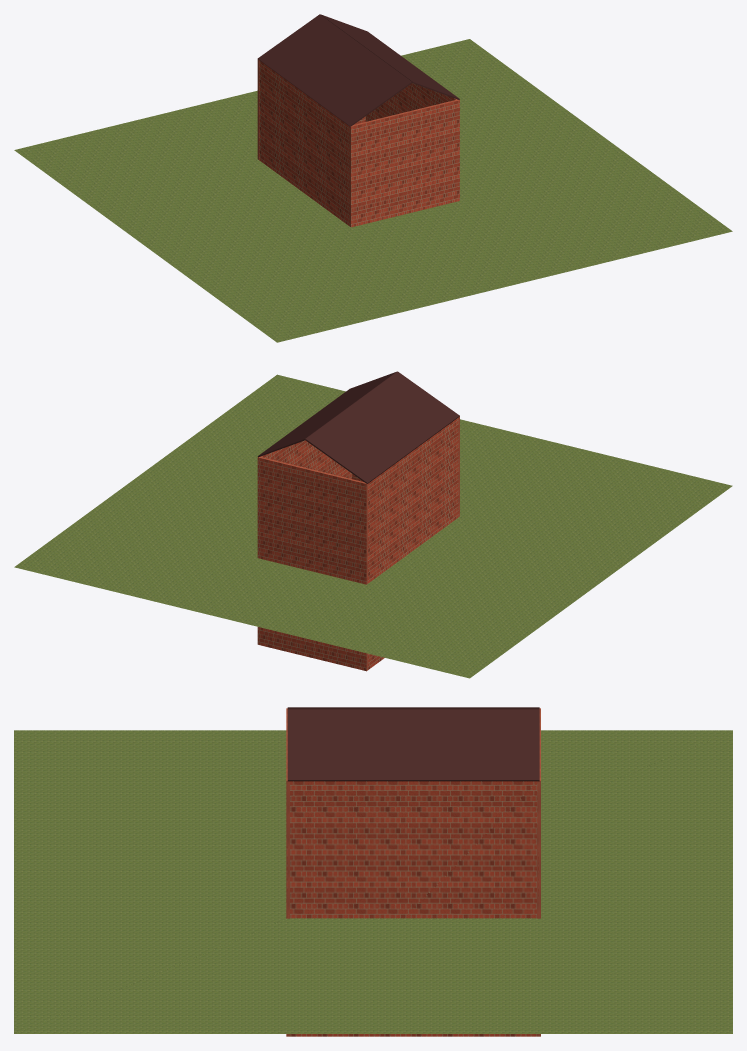
File: shadowhouse.obj
The picture shows the model from 3 angles, top to bottom: view 1: azimuth 30°, elevation 25°; view 2: azimuth 150°, elevation 25°; view 3: azimuth 270°, elevation 25°; orthographic projection. The views are drawn at different scales.
Parts seen in each view (by area): view 1: Plane, Cube.002_Cube.004, Cube.003_Cube.005, Cube.004_Cube.006, Cube.005_Cube.007, Cube.001_Cube.003; view 2: Plane, Cube_Cube.002, Cube.003_Cube.005, Cube.004_Cube.006, Cube.005_Cube.007, Cube.001_Cube.003; view 3: Plane, Cube.001_Cube.003, Cube.005_Cube.007, Cube.004_Cube.006, Cube_Cube.002, Cube.002_Cube.004.
Part boxes in pixels (box(x1,y1,x2,y2)): Plane: box(14, 39, 732, 342); Cube.002_Cube.004: box(349, 99, 459, 227); Cube.003_Cube.005: box(259, 60, 349, 225); Cube.004_Cube.006: box(258, 14, 412, 126); Cube.005_Cube.007: box(320, 14, 459, 99); Cube.001_Cube.003: box(365, 83, 456, 121); Plane: box(14, 374, 732, 678); Cube_Cube.002: box(257, 457, 367, 671); Cube.003_Cube.005: box(368, 417, 458, 669); Cube.004_Cube.006: box(305, 371, 459, 483); Cube.005_Cube.007: box(257, 371, 396, 457); Cube.001_Cube.003: box(260, 440, 351, 478); Plane: box(14, 730, 732, 1033); Cube.001_Cube.003: box(290, 781, 536, 1036); Cube.005_Cube.007: box(287, 709, 539, 781); Cube.004_Cube.006: box(287, 707, 539, 709); Cube_Cube.002: box(537, 708, 540, 1036); Cube.002_Cube.004: box(286, 708, 289, 1036).
Bounding box in the file's own units: 80 × 36.38 × 80.
4 materials, 2 textured.
